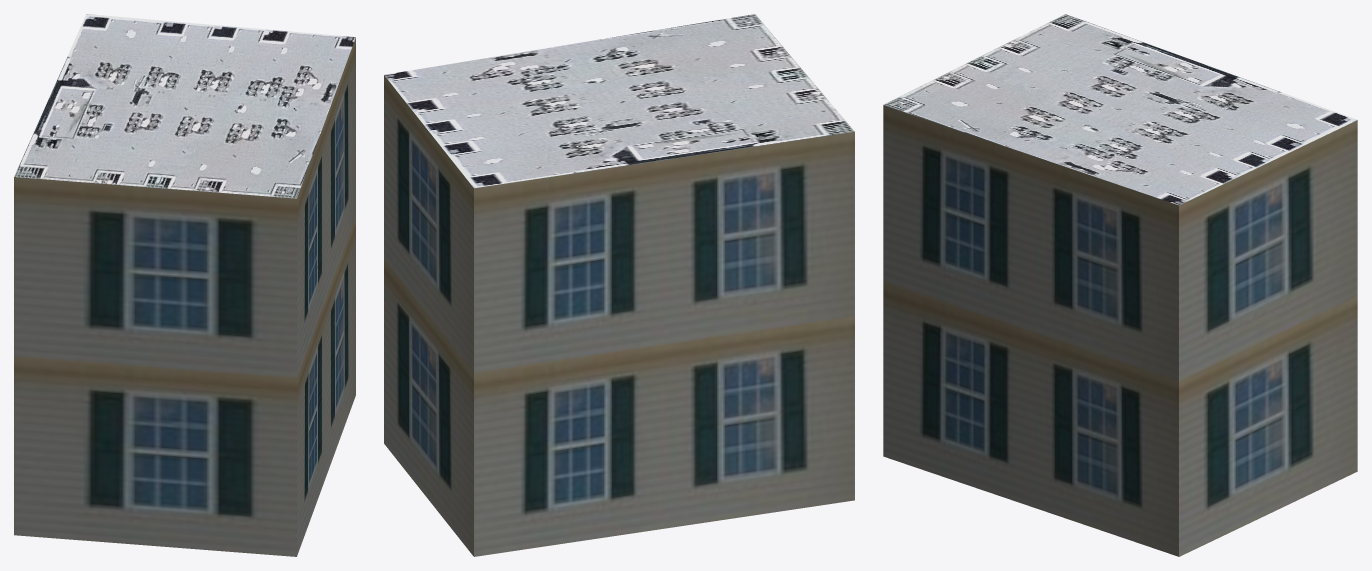
The model's file is ResTex__1624.fbx.
3 renders of one model, left to right at view 1: azimuth 30°, elevation 25°; view 2: azimuth 150°, elevation 25°; view 3: azimuth 270°, elevation 25°, orthographic. The views are drawn at different scales.
Parts seen in each view (by area): view 1: CityEngineMaterial_7_m, CityEngineMaterial_15_m; view 2: CityEngineMaterial_7_m, CityEngineMaterial_15_m; view 3: CityEngineMaterial_7_m, CityEngineMaterial_15_m.
Boxes of the visible parts, bbox=[...] form: CityEngineMaterial_7_m: bbox=[14, 38, 355, 556]; CityEngineMaterial_15_m: bbox=[14, 14, 355, 198]; CityEngineMaterial_7_m: bbox=[384, 75, 854, 556]; CityEngineMaterial_15_m: bbox=[384, 14, 854, 188]; CityEngineMaterial_7_m: bbox=[883, 105, 1357, 556]; CityEngineMaterial_15_m: bbox=[883, 14, 1356, 205].
Bounding box in the file's own units: 7.01 × 6 × 7.34.
Materials: 2 (2 with a texture image).
